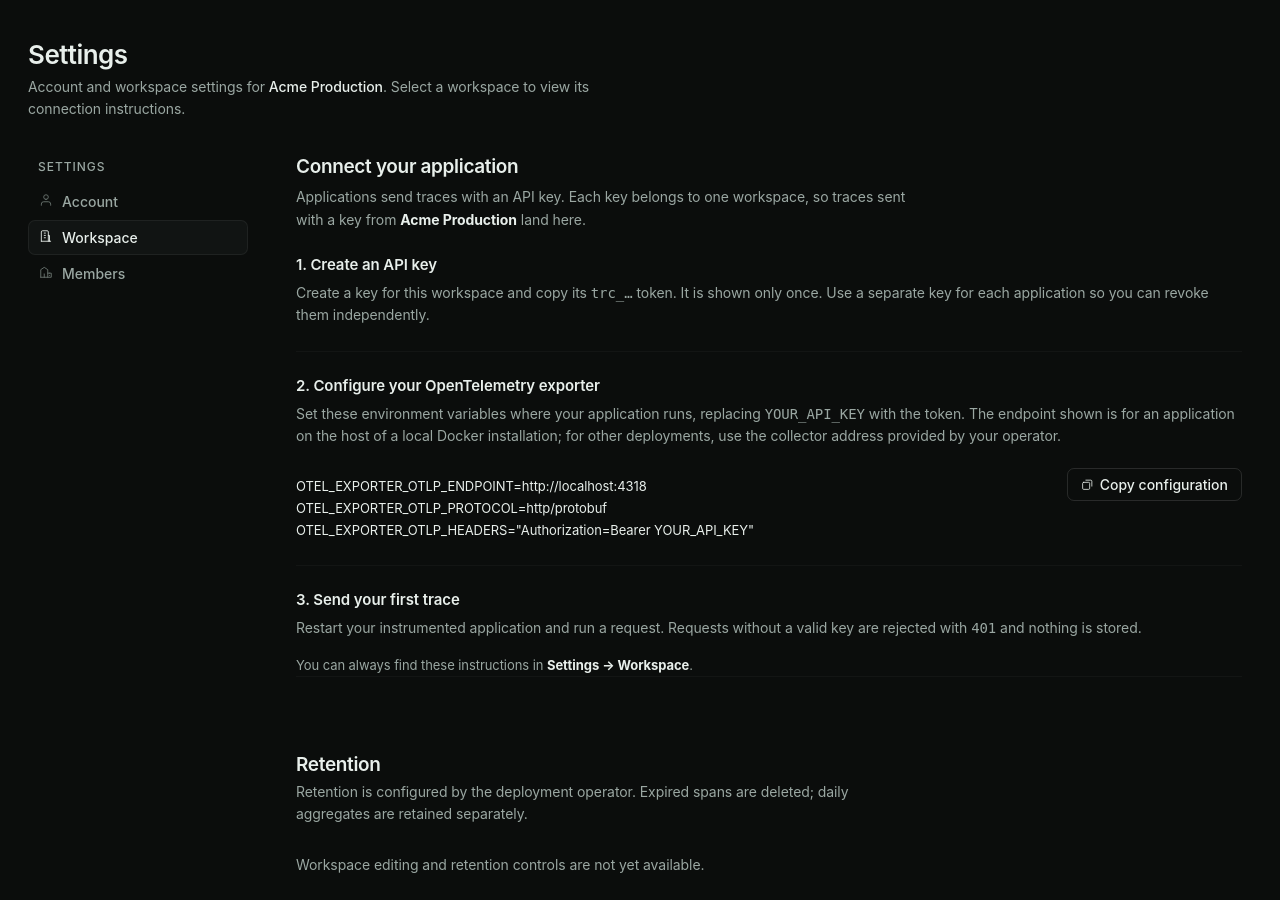
it: change password › surfaces the API error message (e.g. wrong current password)
Click the button "Account".
click(138, 202)  # box [28, 184, 248, 219]
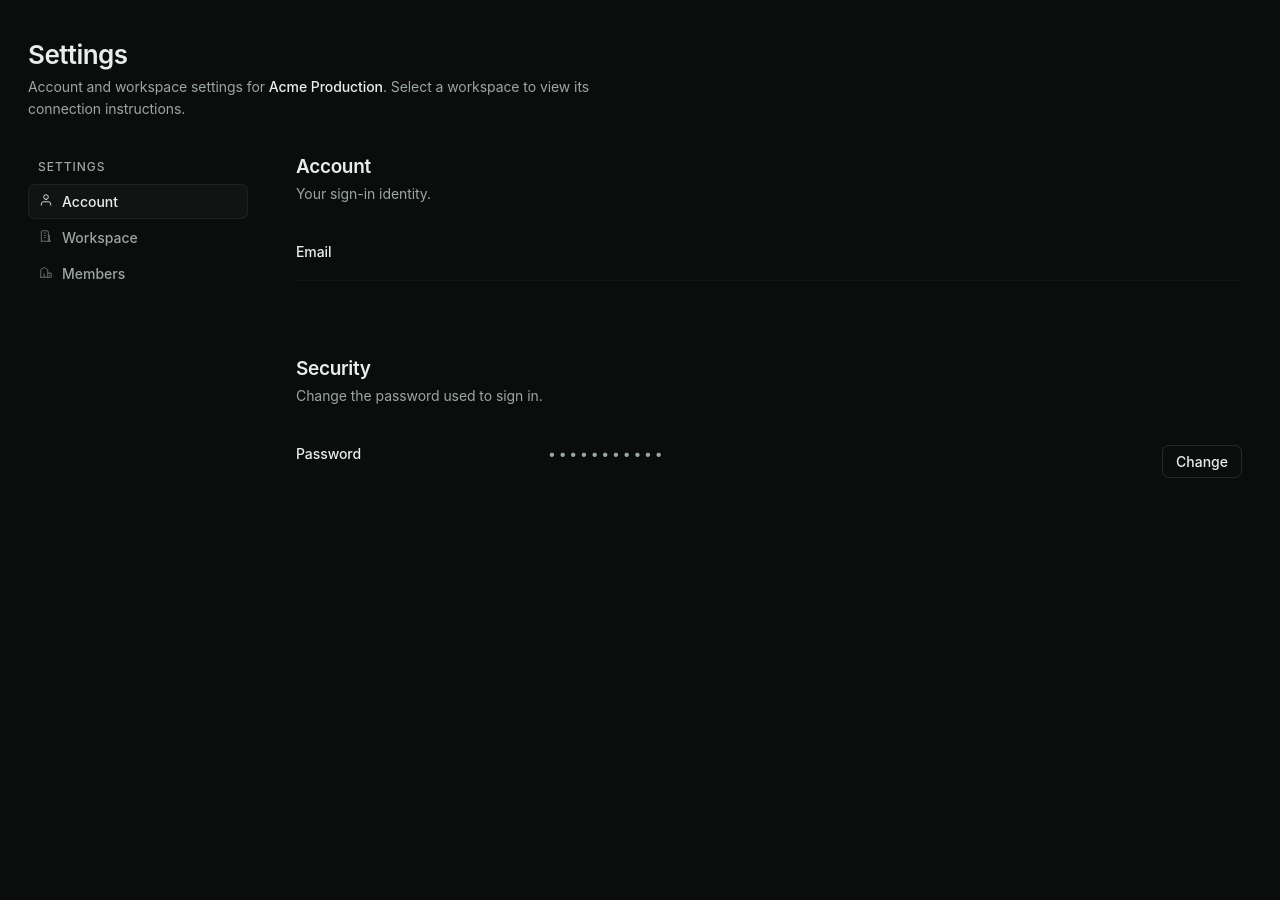
Click the button "Change".
click(1202, 461)  # box [1162, 445, 1242, 478]
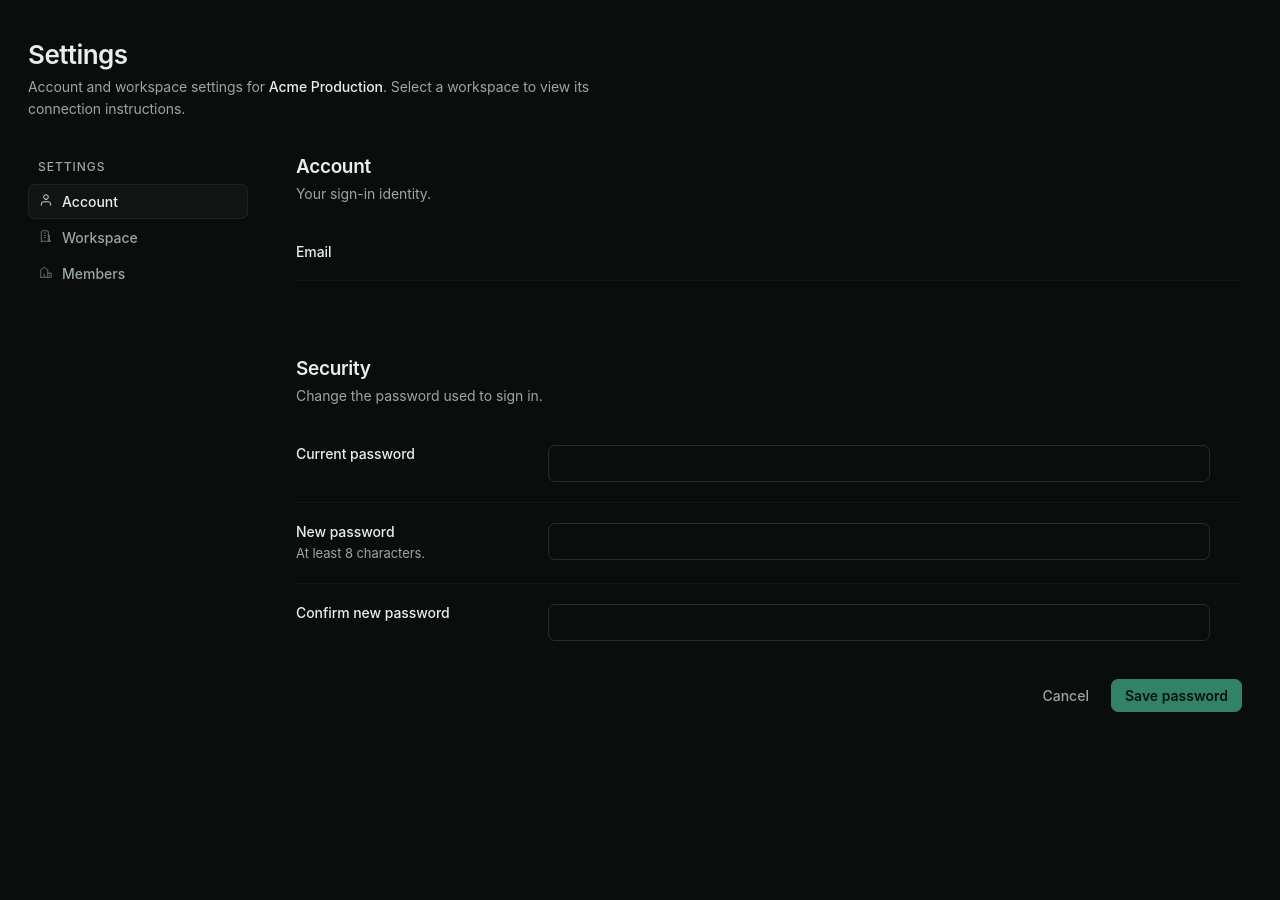
Type "wrong" into the password field named "Current password".
click(879, 463); type("wrong")  # box [560, 446, 1198, 481]
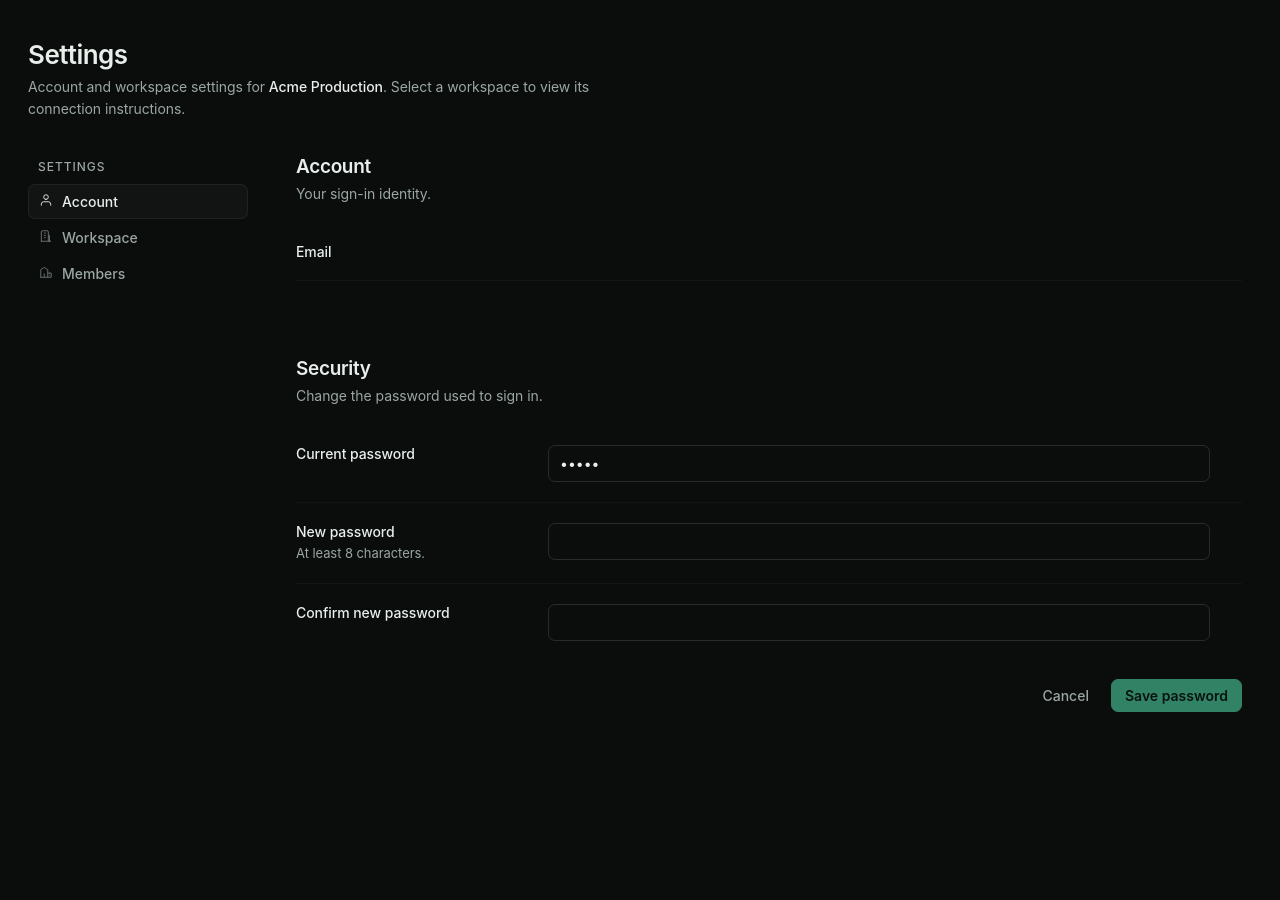
Type "new-password" into the password field named "New password".
click(879, 541); type("new-password")  # box [560, 524, 1198, 559]
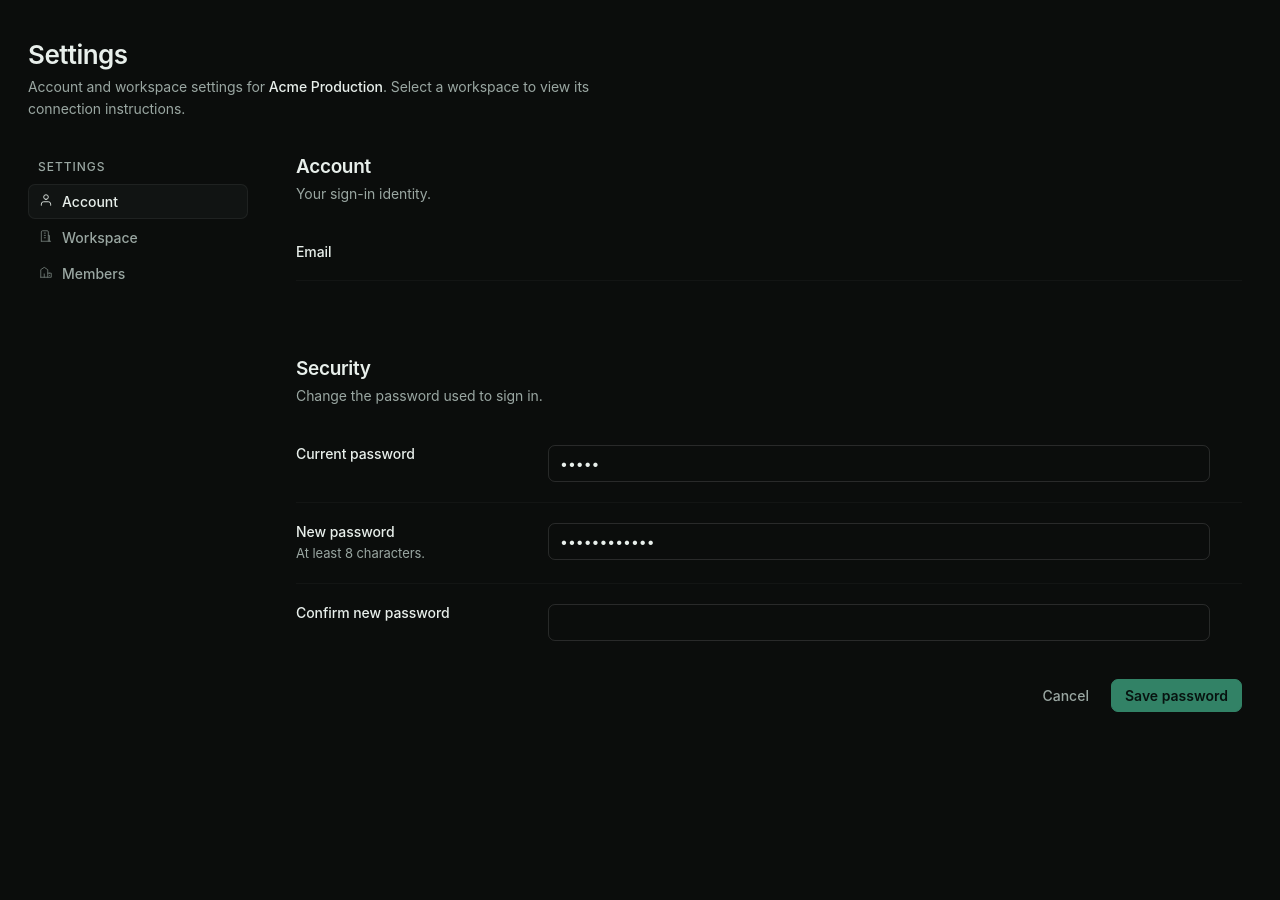
Type "new-password" into the password field named "Confirm new password".
click(879, 623); type("new-password")  # box [560, 605, 1198, 640]
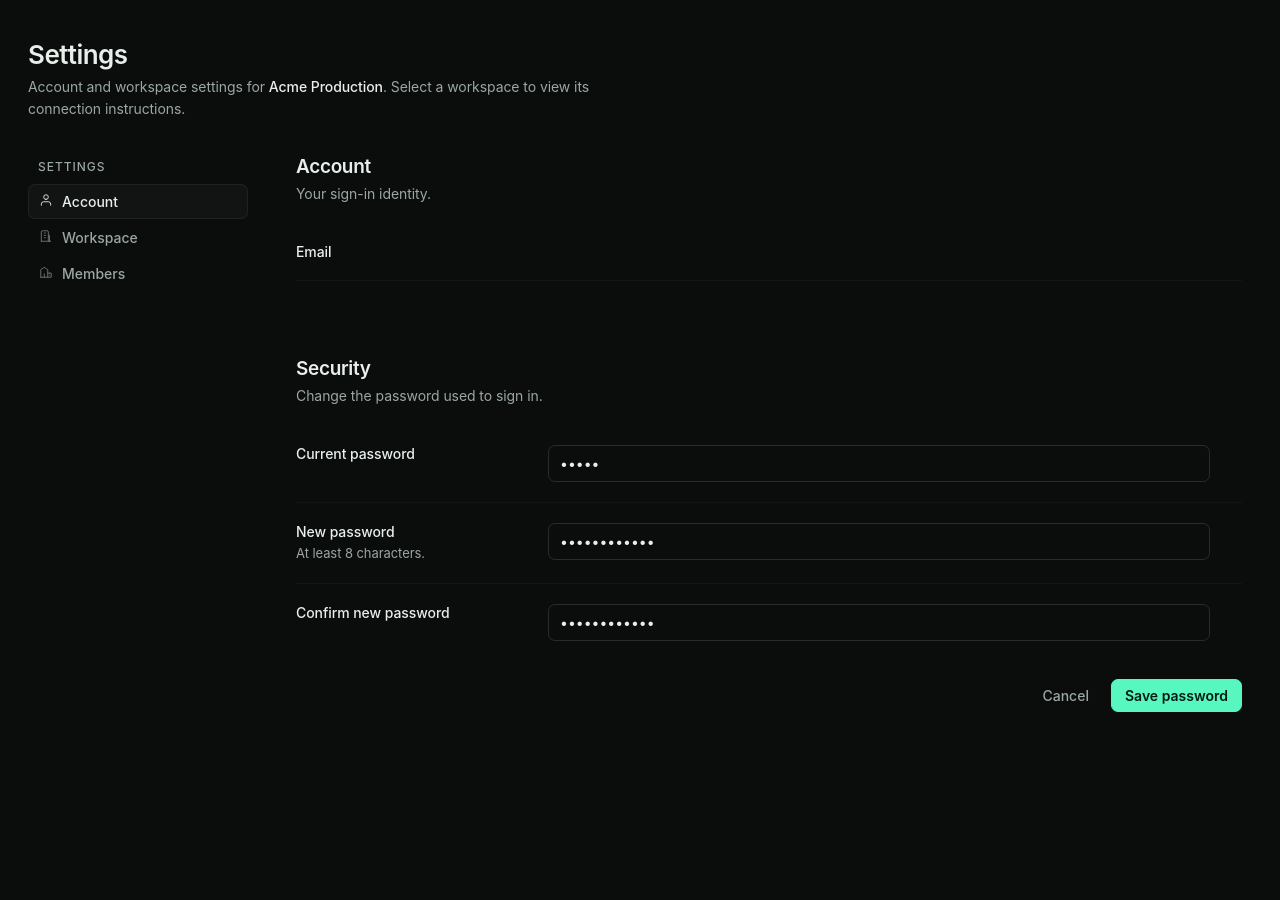
Click the button "Save password".
click(1176, 696)  # box [1111, 679, 1242, 712]
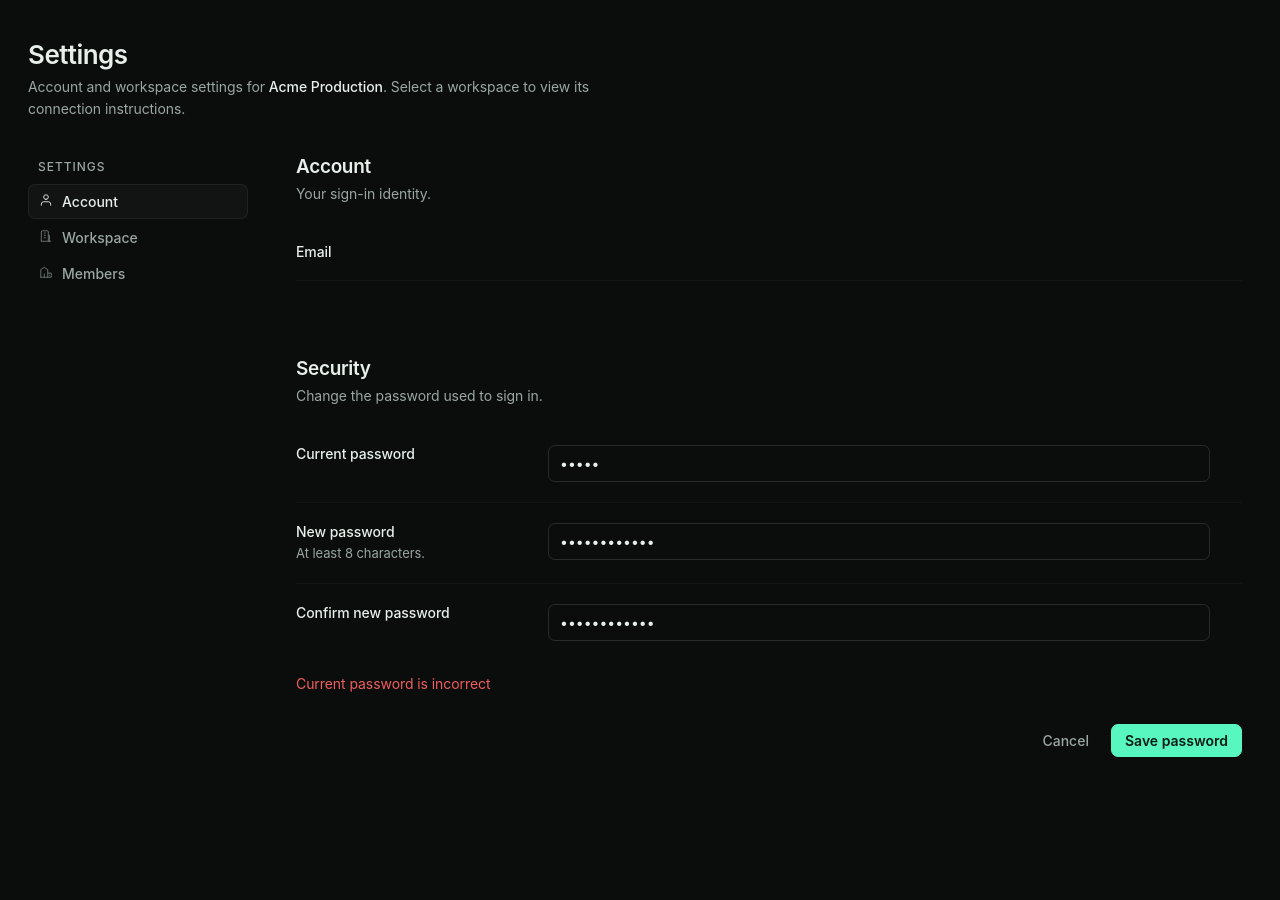
Expected: the message reads "Current password is incorrect", [296, 675, 490, 692]
